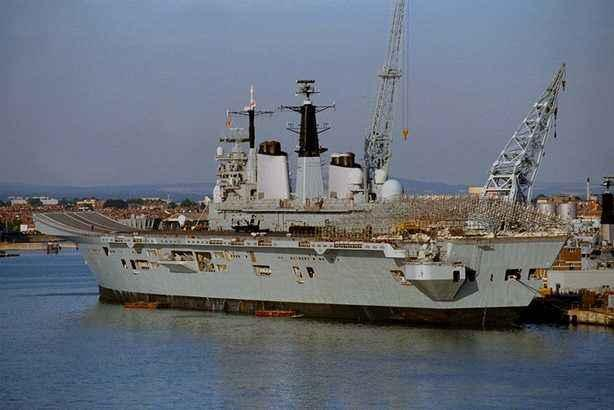warship: (86, 73, 599, 315)
